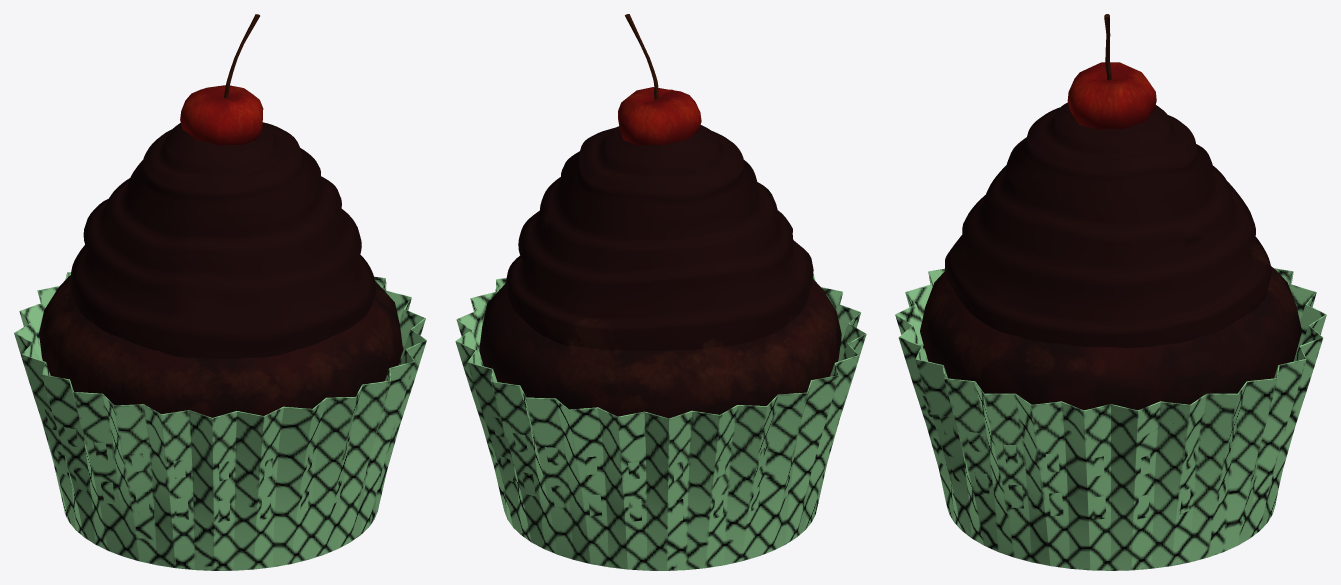
The model's file is bak4.glb.
3 renders of one model, left to right at view 1: azimuth 30°, elevation 25°; view 2: azimuth 150°, elevation 25°; view 3: azimuth 270°, elevation 25°, orthographic. The views are drawn at different scales.
Visible parts, largest first — view 1: Cupcakeneedssameamt:wrap_low1; view 2: Cupcakeneedssameamt:wrap_low1; view 3: Cupcakeneedssameamt:wrap_low1.
Boxes of the visible parts, x1,y1,x2,y2 form: Cupcakeneedssameamt:wrap_low1: [14, 14, 426, 570]; Cupcakeneedssameamt:wrap_low1: [455, 14, 866, 570]; Cupcakeneedssameamt:wrap_low1: [895, 14, 1326, 570].
Size of the model in its own units: 11.15 by 14.42 by 11.18.
1 material, 1 textured.
